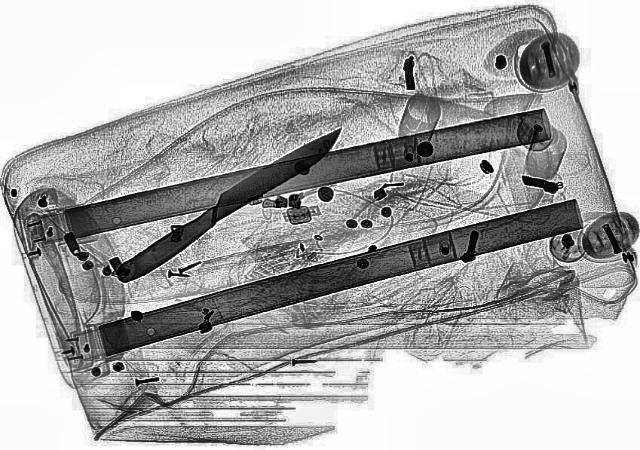Knife: (106, 120, 357, 286)
